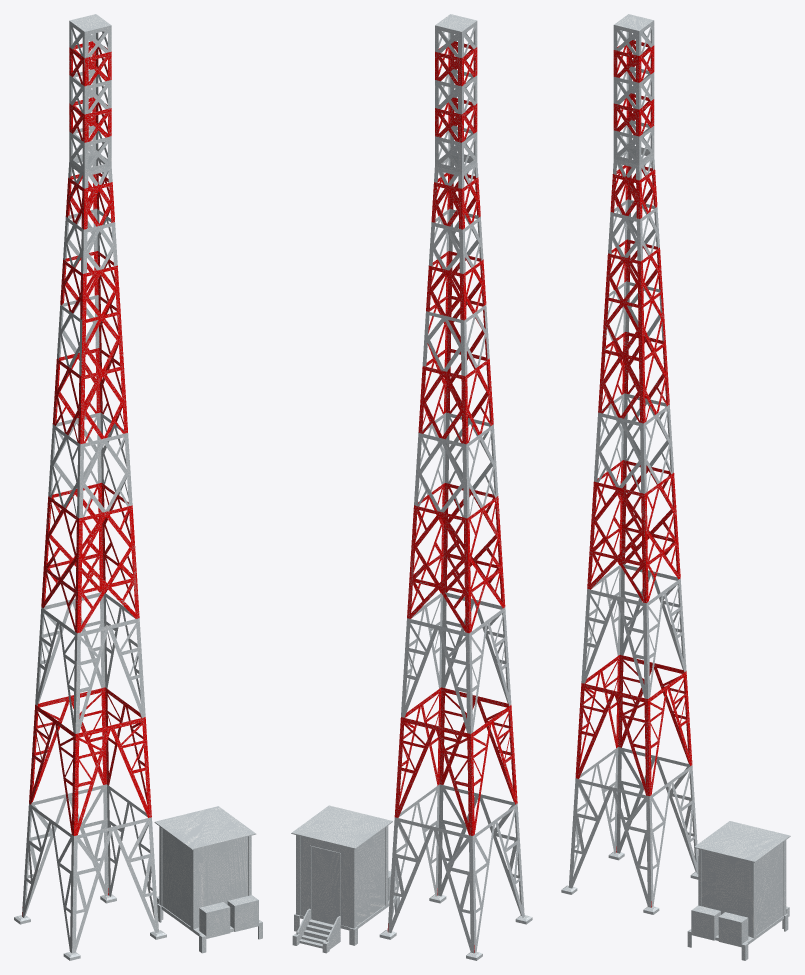
The model's file is Tower.fbx.
The picture shows the model from 3 angles, left to right: view 1: azimuth 30°, elevation 25°; view 2: azimuth 150°, elevation 25°; view 3: azimuth 330°, elevation 25°; orthographic projection. The views are drawn at different scales.
Parts seen in each view (by area): view 1: group_2, group_1.005, group_1.003, group_1.013, group_1, group_1.012, group_1.004, group_2.001, group_1.007, group_1.009, group_1.006, group_1.025 (+4 smaller); view 2: group_2, group_1.005, group_1.013, group_1, group_1.003, group_1.012, group_1.004, group_2.001, group_1.007, group_1.009, group_1.025, group_1.006 (+4 smaller); view 3: group_2, group_1.005, group_1.003, group_1.013, group_1, group_1.012, group_1.004, group_2.001, group_1.007, group_1.009, group_1.006, group_1.017 (+4 smaller).
Part boxes in pixels (x1,y1,x2,y2): group_2: (157, 826, 262, 953); group_1.005: (22, 784, 158, 952); group_1.003: (52, 251, 127, 444); group_1.013: (41, 482, 139, 633); group_1: (29, 687, 151, 835); group_1.012: (35, 592, 145, 733); group_1.004: (48, 412, 132, 518); group_2.001: (154, 806, 256, 849); group_1.007: (68, 125, 112, 188); group_1.009: (63, 209, 117, 273); group_1.006: (66, 173, 114, 229); group_1.025: (57, 295, 99, 375); group_2: (292, 826, 399, 953); group_1.005: (388, 784, 524, 953); group_1.013: (407, 483, 505, 633); group_1: (394, 687, 517, 835); group_1.003: (418, 251, 493, 444); group_1.012: (401, 592, 511, 733); group_1.004: (414, 412, 498, 518); group_2.001: (291, 805, 392, 849); group_1.007: (434, 125, 478, 188); group_1.009: (428, 208, 483, 273); group_1.025: (422, 304, 489, 375); group_1.006: (431, 173, 480, 229); group_2: (687, 840, 789, 960); group_1.005: (568, 747, 698, 907); group_1.003: (598, 239, 669, 423); group_1.013: (587, 460, 680, 603); group_1: (575, 655, 692, 796); group_1.012: (581, 564, 686, 698); group_1.004: (594, 393, 673, 493); group_2.001: (694, 821, 790, 862); group_1.007: (613, 120, 654, 180); group_1.009: (608, 199, 659, 261); group_1.006: (610, 165, 657, 218); group_1.017: (613, 93, 654, 136).
Bounding box in the file's own units: 1086 × 4955 × 580.
